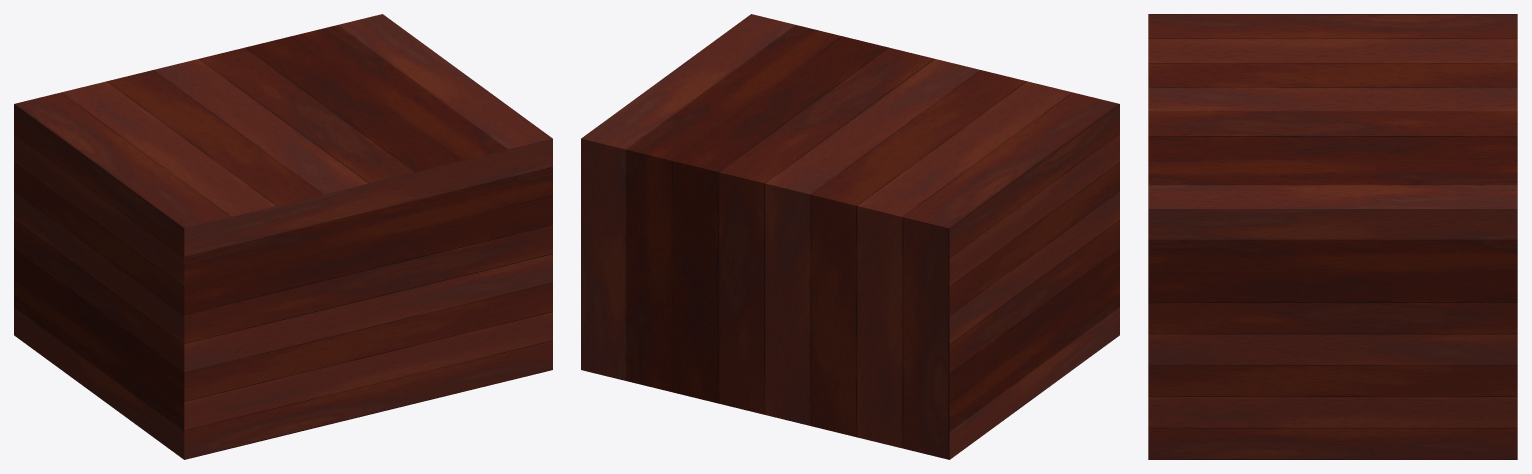
Rendered from TVBox.fbx.
3 views of the same model, side by side, from view 1: azimuth 30°, elevation 25°; view 2: azimuth 150°, elevation 25°; view 3: azimuth 270°, elevation 25° (orthographic). The views are drawn at different scales.
Parts seen in each view (by area): view 1: TV; view 2: TV; view 3: TV.
Part boxes in pixels (left/top/right/bottom): TV: left=14, top=14, right=552, bottom=459; TV: left=581, top=14, right=1119, bottom=459; TV: left=1148, top=14, right=1517, bottom=459.
Size of the model in its own units: 1 by 0.6 by 0.8.
2 materials, 2 textured.
